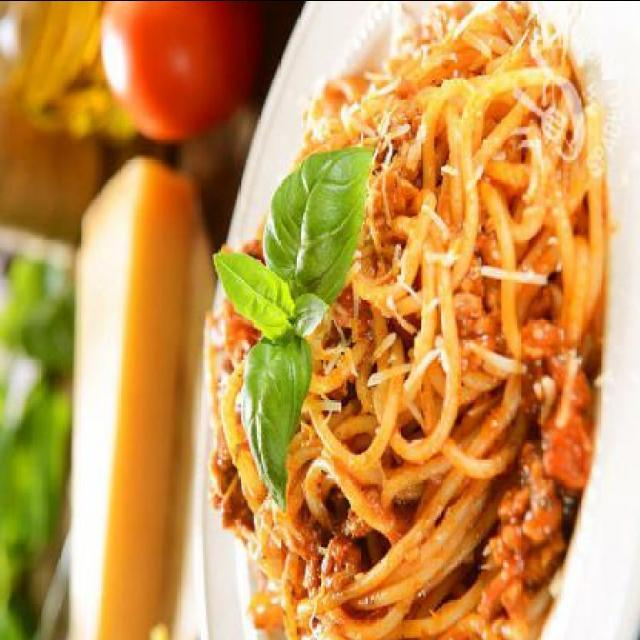Pasta al ragu: (184, 21, 618, 624)
